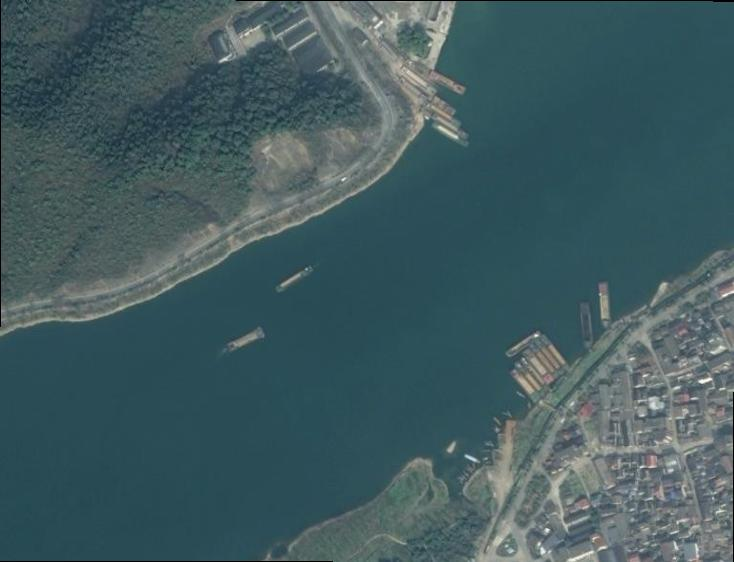ship: (524, 348, 556, 386), (534, 339, 565, 377), (530, 342, 560, 381), (539, 335, 570, 372), (521, 356, 550, 394), (516, 363, 546, 398), (227, 327, 265, 354), (511, 369, 541, 403), (429, 70, 467, 96), (505, 331, 541, 358), (277, 266, 313, 292), (431, 122, 467, 146), (432, 112, 466, 137), (428, 103, 463, 127), (580, 302, 593, 347), (433, 96, 457, 115), (600, 283, 610, 327), (445, 437, 460, 456), (464, 454, 481, 464), (494, 416, 504, 427)
